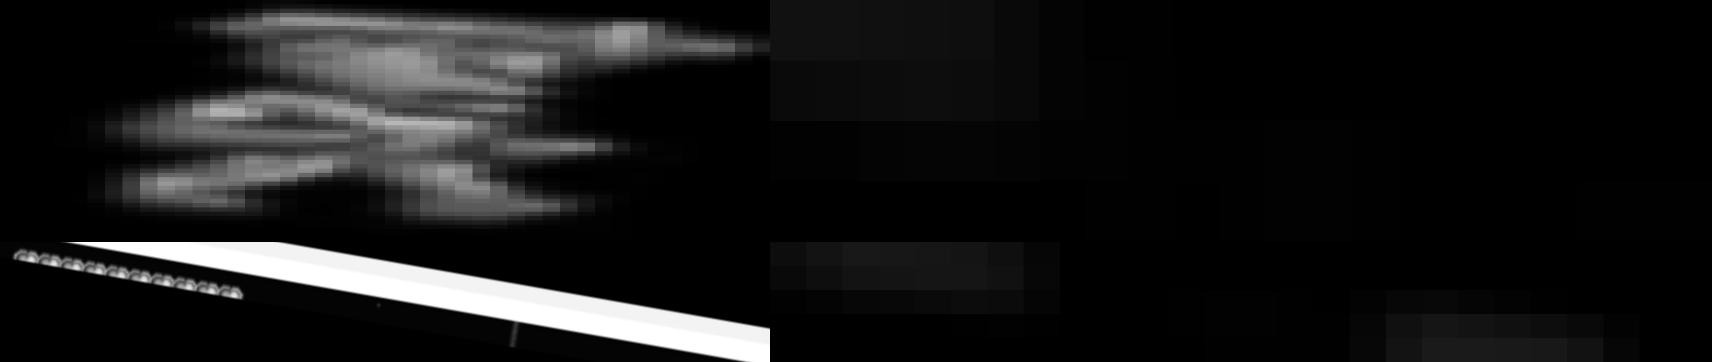breastplate: (770, 242, 1712, 362)
wood: (770, 0, 1712, 242)
zombie: (0, 0, 770, 242)
